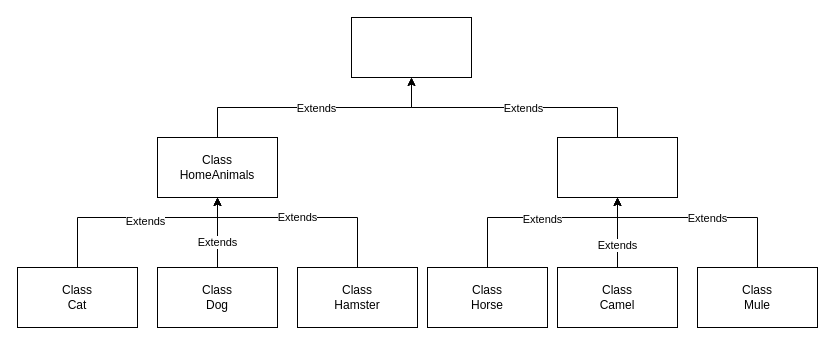
This 835x345 diagram has some shape labels left out. Each missing label, with the centre of its shape:
"Class Animals" goes at [411,47].
"Class PackAnimals" goes at [617,167].
